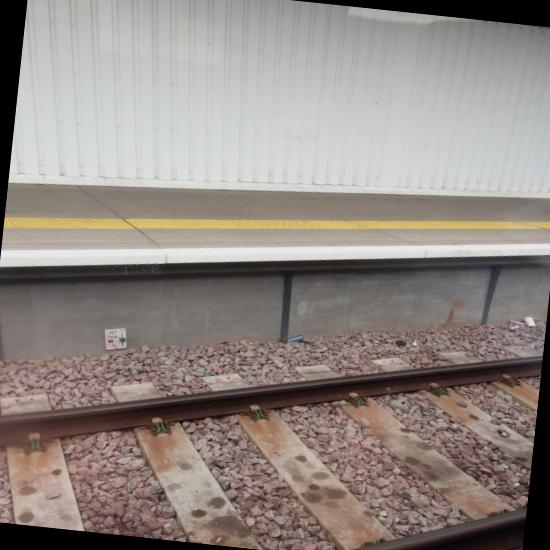Disposable plastic cup: (286, 334, 304, 343)
Drink can: (506, 325, 519, 331)
Paper cup: (523, 317, 536, 328)
Plastic lid: (396, 340, 407, 346)
Plastic straw: (533, 319, 540, 320)
Unlabeled litter: (510, 321, 526, 328)
